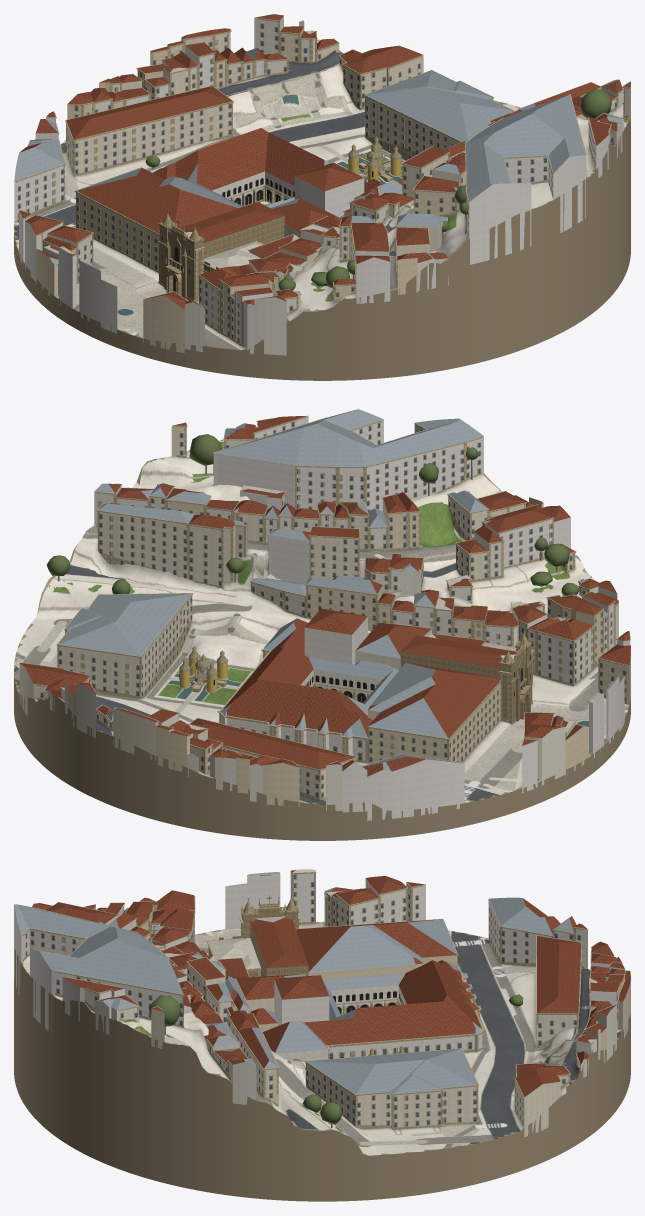
Rendered from santa-cruz-rico.glb.
3 views of the same model, one above another, from view 1: azimuth 30°, elevation 25°; view 2: azimuth 150°, elevation 25°; view 3: azimuth 270°, elevation 25° (orthographic).
Parts seen in each view (by area): view 1: Edif_contexto, Terreno, Rico_cantaria, Edif_conjunto_relation_2962560, Rico_janela, Edif_conjunto_way_204192080, Arvores, Edif_conjunto_way_204192080_pedra-igreja, Rico_lavrado, Edif_conjunto_way_223328749, Rico_escuro, Edif_conjunto_way_873267259_reboco-amarelo; view 2: Edif_contexto, Terreno, Rico_cantaria, Edif_conjunto_relation_2962560, Rico_janela, Arvores, Edif_conjunto_way_204192080, Edif_conjunto_way_204192080_pedra-igreja, Edif_conjunto_way_873267259_reboco-amarelo, Rico_lavrado; view 3: Terreno, Edif_contexto, Edif_conjunto_relation_2962560, Rico_cantaria, Rico_janela, Edif_conjunto_way_204192080, Arvores, Edif_conjunto_way_223328749, Edif_conjunto_way_204192080_pedra-igreja.
Boxes of the visible parts, x1=… form: Edif_contexto: x1=14, y1=14, x2=630, y2=355; Terreno: x1=14, y1=39, x2=630, y2=380; Rico_cantaria: x1=16, y1=18, x2=628, y2=347; Edif_conjunto_relation_2962560: x1=153, y1=128, x2=383, y2=207; Rico_janela: x1=18, y1=24, x2=616, y2=342; Edif_conjunto_way_204192080: x1=177, y1=202, x2=284, y2=298; Arvores: x1=145, y1=89, x2=611, y2=290; Edif_conjunto_way_204192080_pedra-igreja: x1=158, y1=213, x2=204, y2=301; Rico_lavrado: x1=159, y1=220, x2=218, y2=299; Edif_conjunto_way_223328749: x1=203, y1=241, x2=262, y2=272; Rico_escuro: x1=162, y1=171, x2=373, y2=291; Edif_conjunto_way_873267259_reboco-amarelo: x1=348, y1=140, x2=400, y2=181; Edif_contexto: x1=19, y1=409, x2=630, y2=820; Terreno: x1=14, y1=439, x2=630, y2=840; Rico_cantaria: x1=22, y1=416, x2=627, y2=800; Edif_conjunto_relation_2962560: x1=220, y1=618, x2=398, y2=761; Rico_janela: x1=40, y1=422, x2=625, y2=797; Arvores: x1=46, y1=434, x2=579, y2=595; Edif_conjunto_way_204192080: x1=400, y1=635, x2=515, y2=681; Edif_conjunto_way_204192080_pedra-igreja: x1=499, y1=633, x2=532, y2=724; Edif_conjunto_way_873267259_reboco-amarelo: x1=179, y1=649, x2=227, y2=692; Rico_lavrado: x1=500, y1=638, x2=531, y2=721; Terreno: x1=14, y1=922, x2=630, y2=1201; Edif_contexto: x1=14, y1=869, x2=630, y2=1137; Edif_conjunto_relation_2962560: x1=263, y1=960, x2=484, y2=1060; Rico_cantaria: x1=16, y1=872, x2=625, y2=1129; Rico_janela: x1=26, y1=874, x2=617, y2=1127; Edif_conjunto_way_204192080: x1=241, y1=916, x2=308, y2=976; Arvores: x1=149, y1=994, x2=523, y2=1124; Edif_conjunto_way_223328749: x1=208, y1=938, x2=260, y2=977; Edif_conjunto_way_204192080_pedra-igreja: x1=240, y1=898, x2=298, y2=938.
Size of the model in its own units: 201 by 66.42 by 200.
27 materials, 21 textured.
